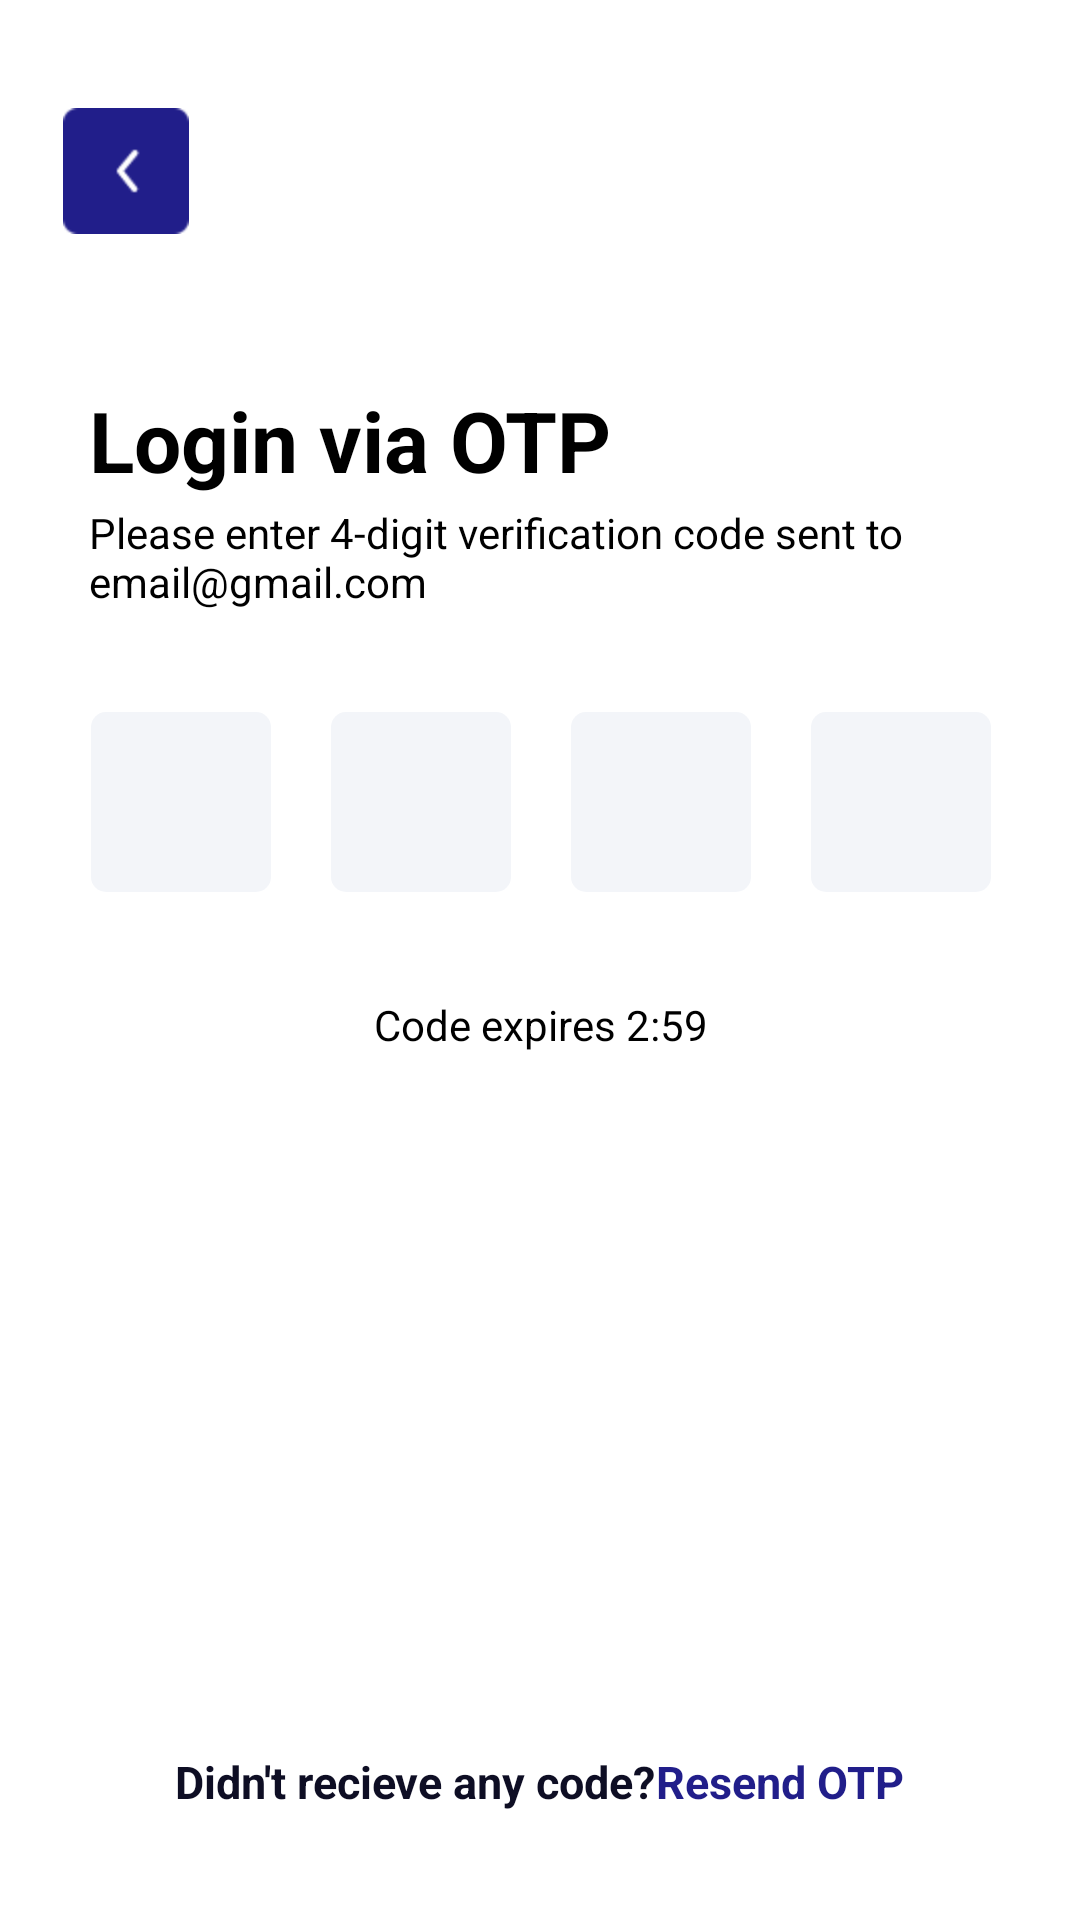

Screen size 1080px x 1920px. Icon name, then its box in pixels as (x1, y1, x2, y2):
backbutton: (63, 108, 189, 234)
